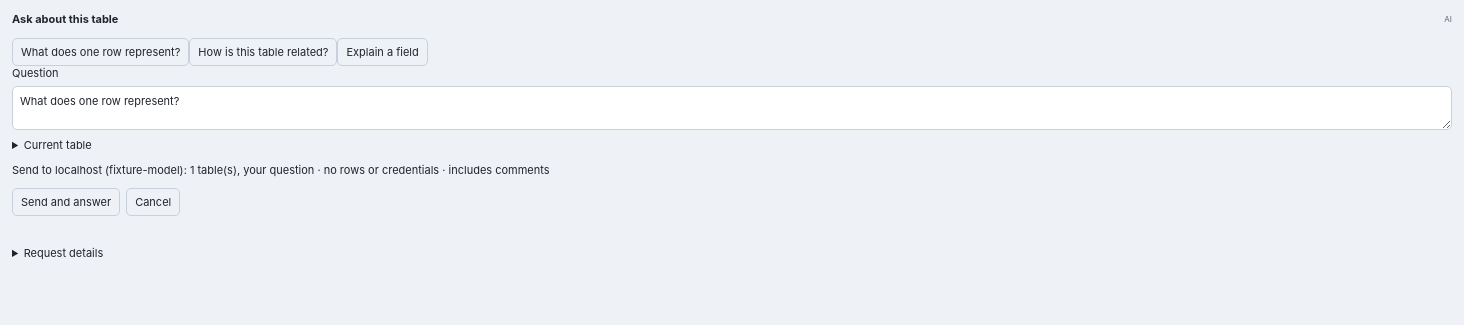
Test case: task-first table understanding › keeps questions and allows safe retry after truncated at its token limit
Click the button "Send and answer".
click(66, 202)  # box [12,188,120,216]
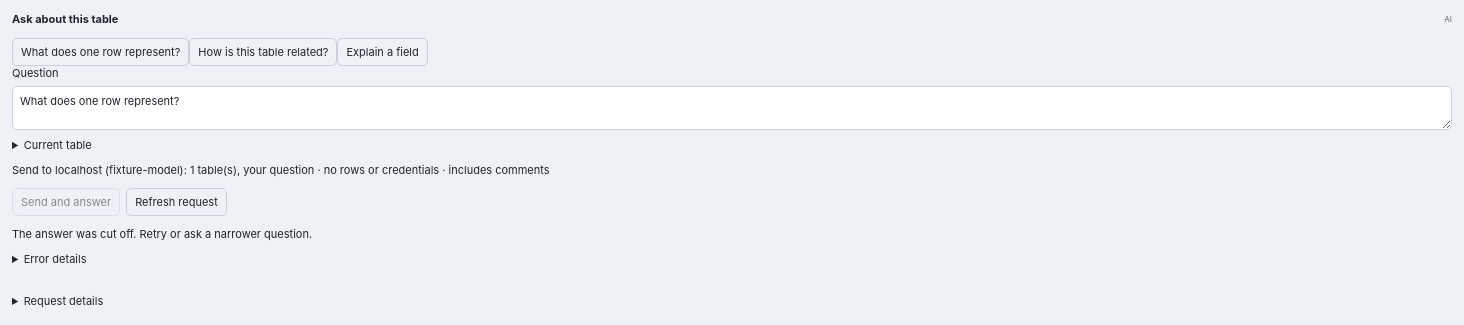
Check: the text box holds "What does one row represent?", box [12,86,1452,130]
Check: the message "The answer was cut off. Retry or ask a narrower question. Error details" is shown, box [12,227,312,266]
Click the button "Refresh request".
click(176, 202)  # box [126,188,227,216]
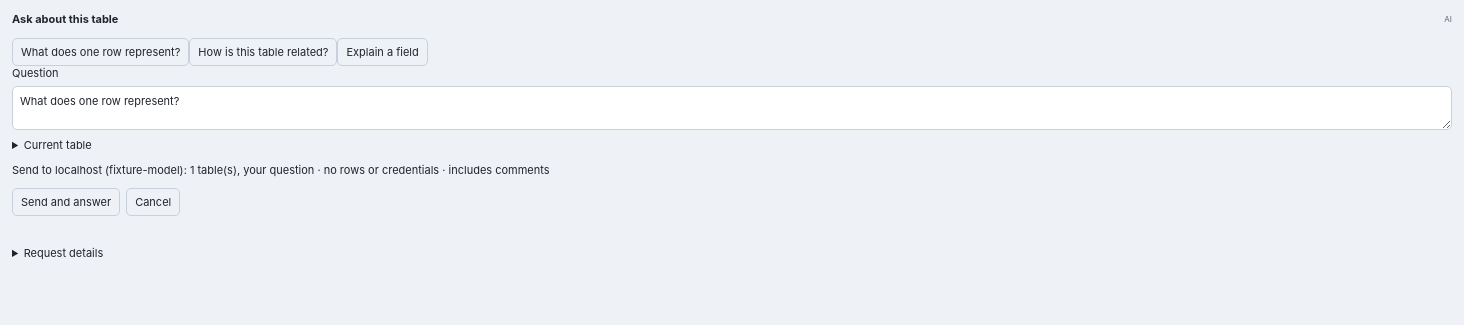
Check: the button "Send and answer" is enabled, box [12,188,120,216]
